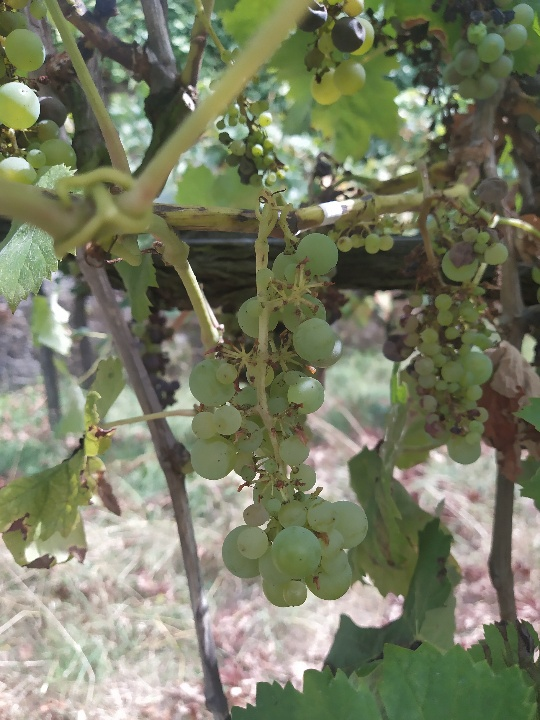grape: (186, 230, 372, 611)
